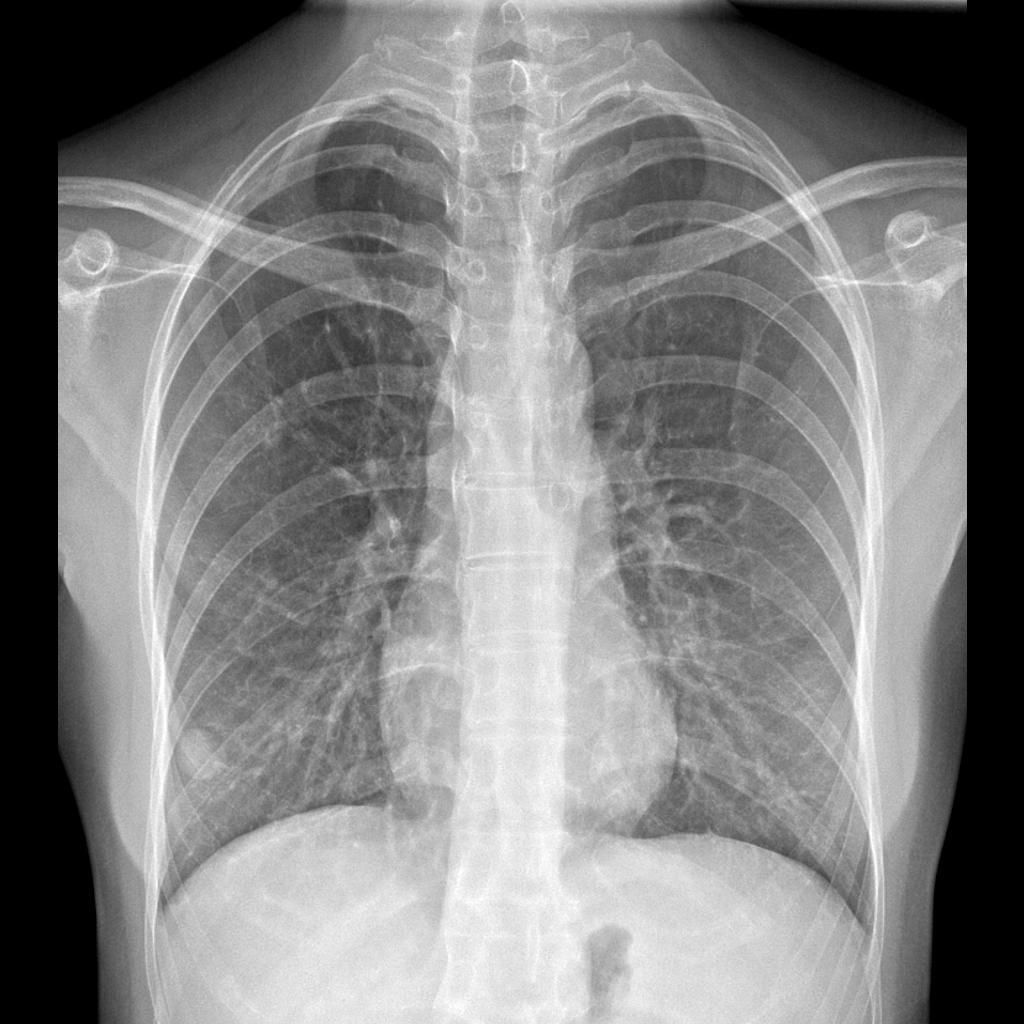Nodule: (173, 721, 234, 794)
